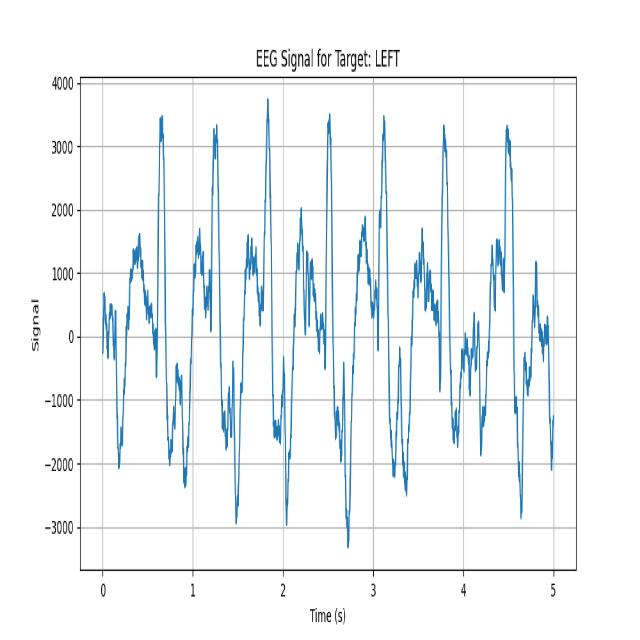LEFT: (132, 94, 202, 516), (244, 89, 310, 531), (476, 79, 538, 545), (310, 86, 367, 546), (369, 86, 426, 546), (424, 82, 475, 534), (203, 95, 247, 525)
